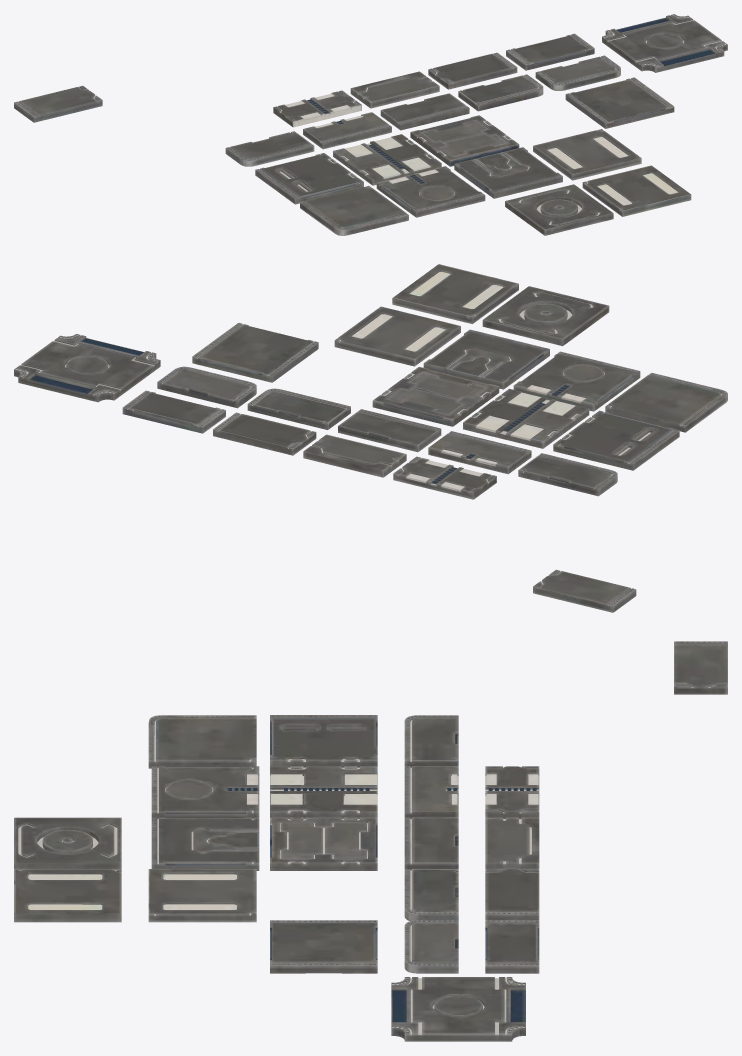
The model's file is floor-modular.glb.
3 renders of one model, top to bottom at view 1: azimuth 30°, elevation 25°; view 2: azimuth 150°, elevation 25°; view 3: azimuth 270°, elevation 25°, orthographic. The views are drawn at different scales.
Visible parts, largest first — view 1: Cube.000__0; view 2: Cube.000__0; view 3: Cube.000__0.
Boxes of the visible parts, x1,y1,x2,y2 form: Cube.000__0: (14,14,727,235); Cube.000__0: (14,264,727,612); Cube.000__0: (14,641,727,1041).
Size of the model in its own units: 6.9 by 0.0657 by 5.3.
Materials: 1 (1 with a texture image).
